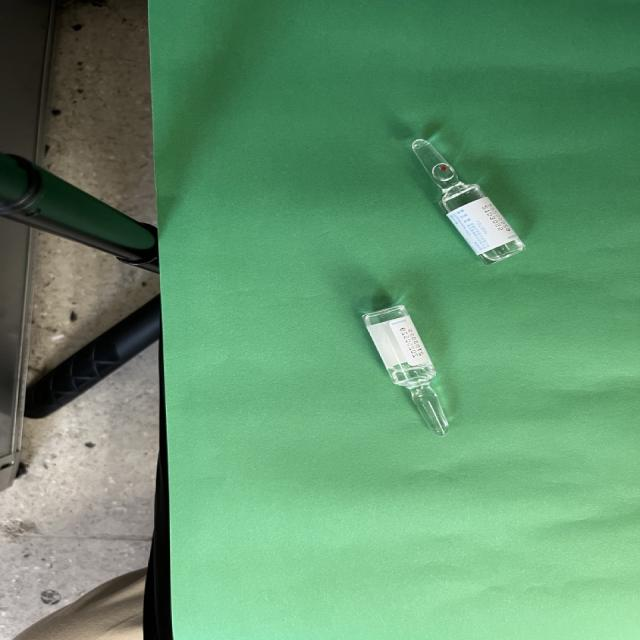Ampoules: (411, 139, 523, 264), (363, 305, 448, 436)
